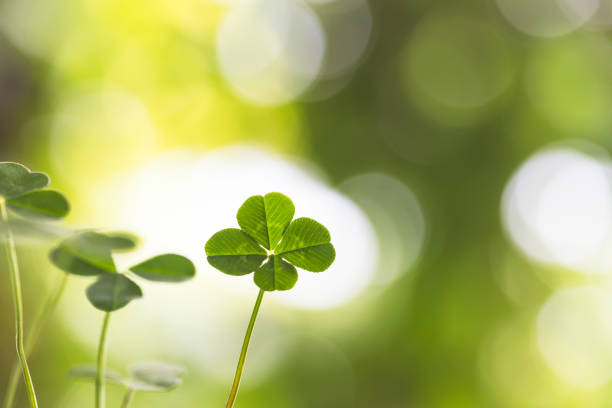daikon: (189, 173, 350, 300), (29, 210, 210, 312)
